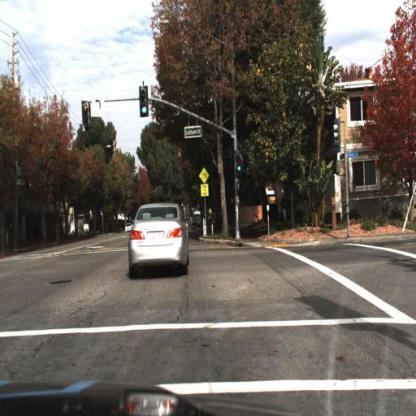car: (127, 202, 193, 274)
trafficLight: (137, 82, 148, 120)
trafficLight-Green: (233, 150, 244, 178)
trafficLight-RedLeft: (80, 98, 91, 132)
